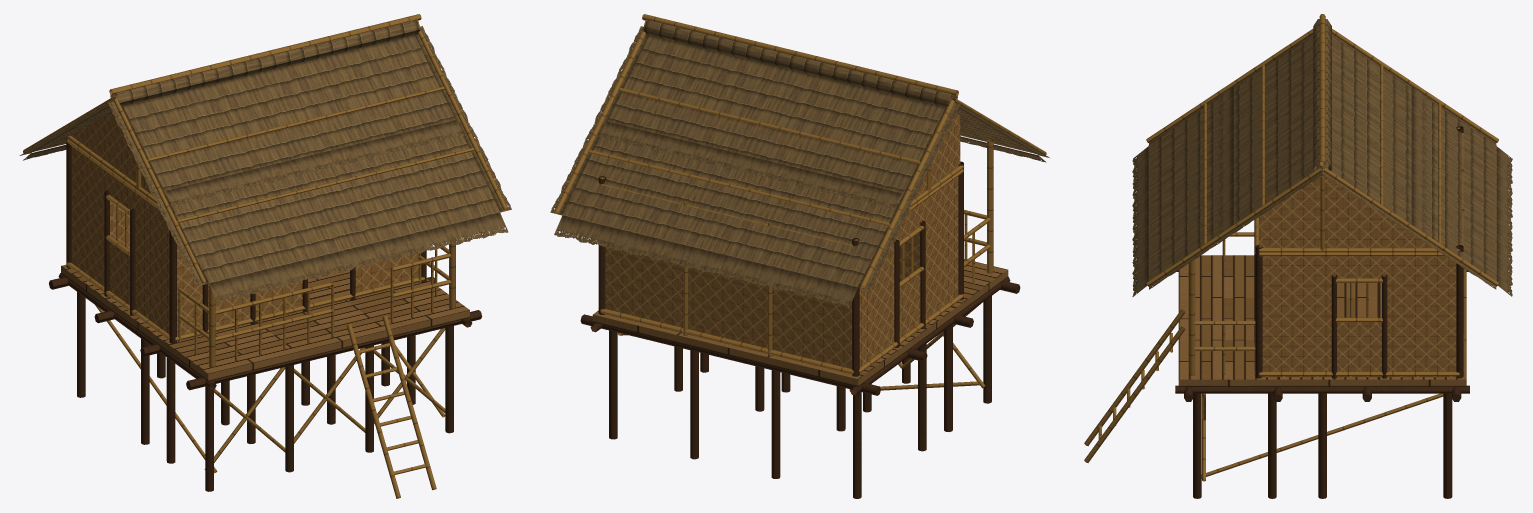
3 views of the same model, side by side, from view 1: azimuth 30°, elevation 25°; view 2: azimuth 150°, elevation 25°; view 3: azimuth 270°, elevation 25° (orthographic). The views are drawn at different scales.
Visible parts, largest first — view 1: hut_badjao_0; view 2: hut_badjao_0; view 3: hut_badjao_0.
Boxes of the visible parts, left/top/right/bottom form: hut_badjao_0: left=19, top=14, right=511, bottom=498; hut_badjao_0: left=550, top=14, right=1049, bottom=498; hut_badjao_0: left=1084, top=14, right=1512, bottom=498.
Size of the model in its own units: 5.46 by 5.81 by 6.49.
Materials: 6 (6 with a texture image).
